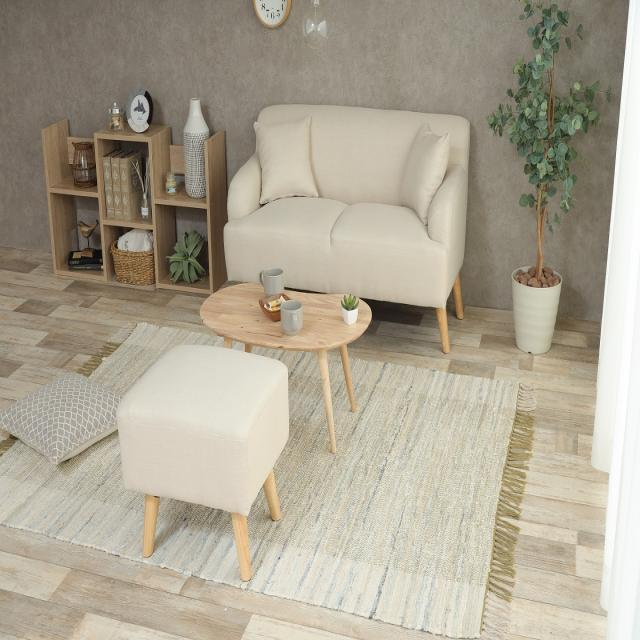white chair: (113, 337, 290, 580)
white shelf: (43, 94, 215, 298)
white sofa: (218, 101, 473, 352)
